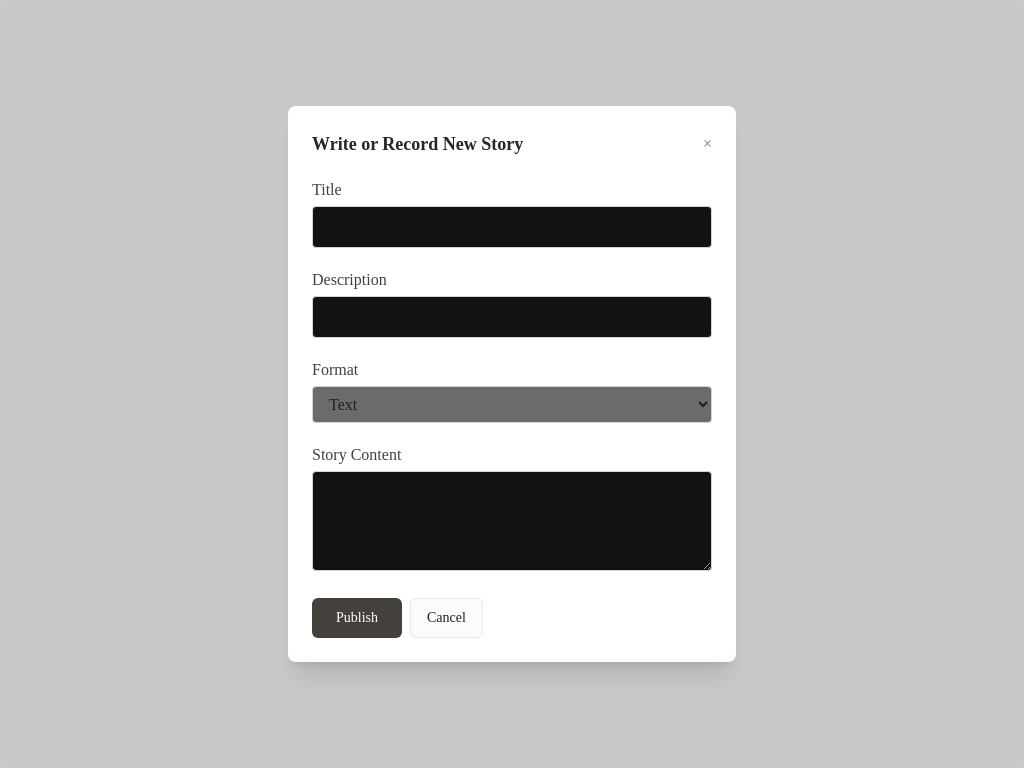
Test: AddStoryForm › switches to voice format when selected
Select "Voice" in the dropdown labelled "Format" at coordinates (512, 404), box [312,386,712,423]
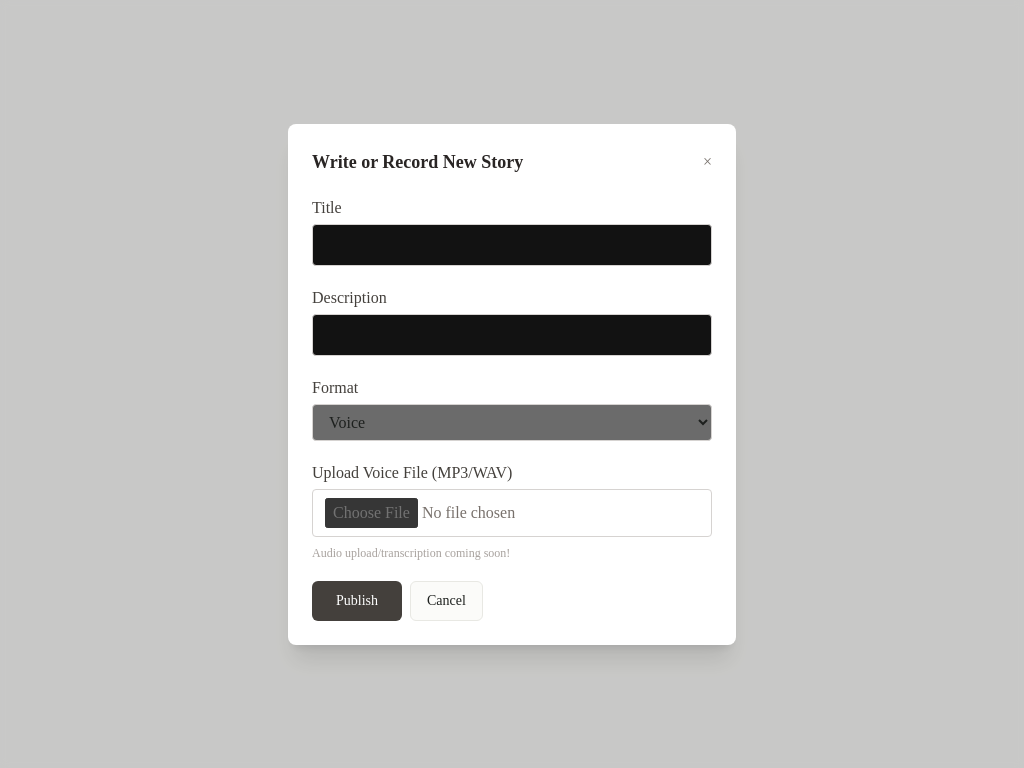
Check: the text "Upload Voice File (MP3/WAV)" is shown, box [312,464,512,480]
Check: the text "Audio upload/transcription coming soon!" is shown, box [312,546,510,560]
